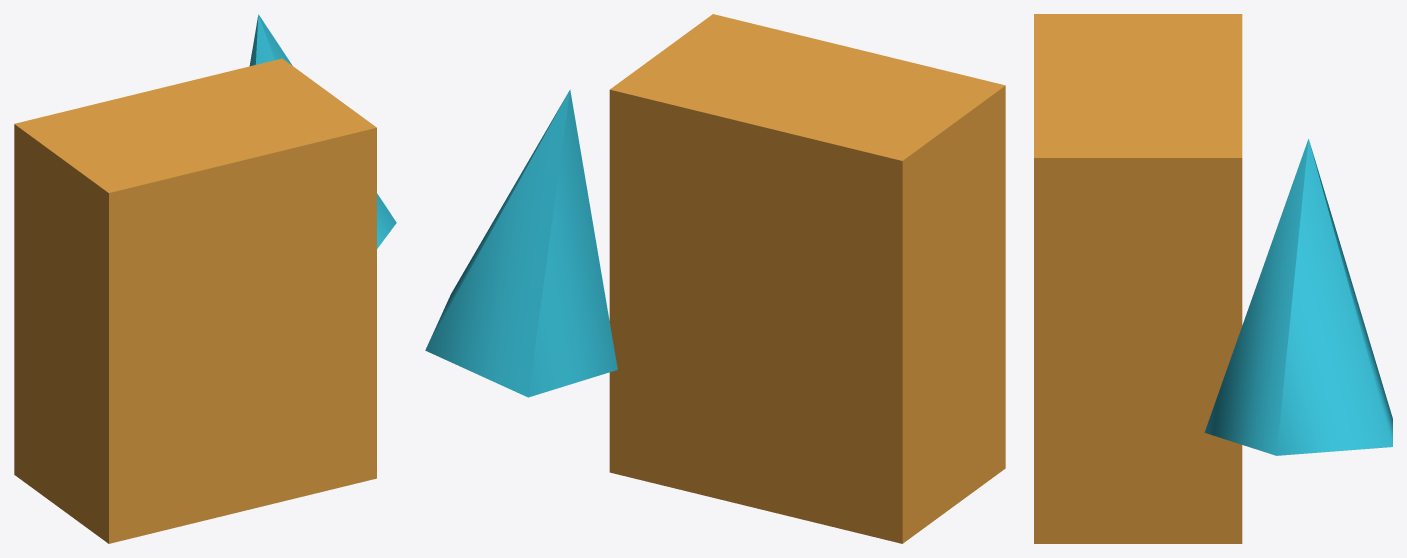
Rendered from frame-03.glb.
3 renders of one model, left to right at view 1: azimuth 30°, elevation 25°; view 2: azimuth 150°, elevation 25°; view 3: azimuth 270°, elevation 25°, orthographic. The views are drawn at different scales.
Bounding box in the file's own units: 0.5343 × 0.4768 × 0.379.
